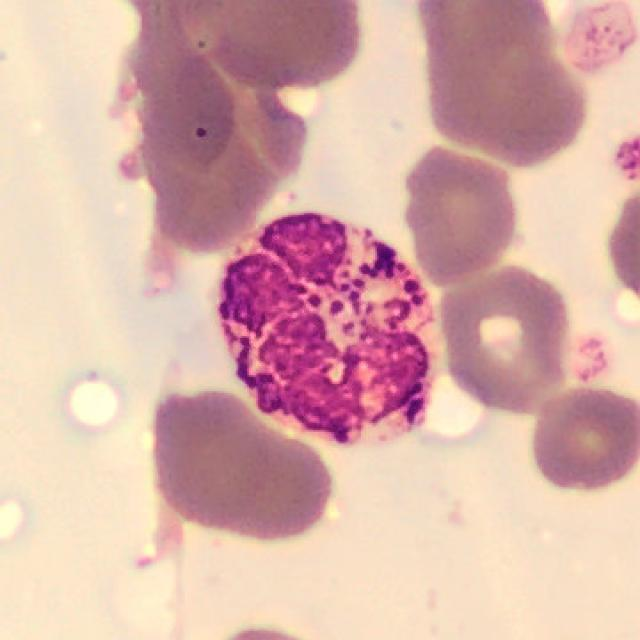Neutrofilo segmentado: (213, 212, 446, 448)
